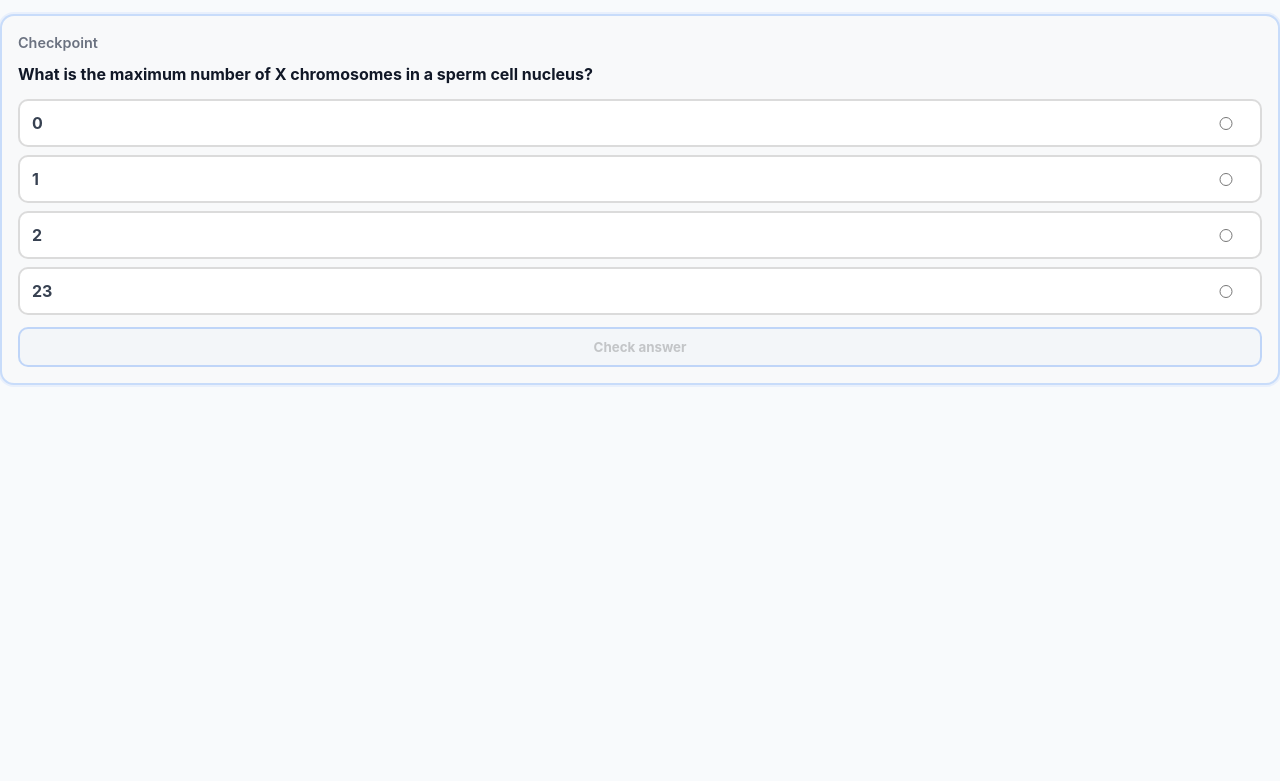
Test: LessonCheckpoint MCQ feedback › shows marks and feedback after check for entitled students
This screenshot has width=1280, height=781.
Click the button "1". click: click(35, 179)
box: [18,155,1262,203]
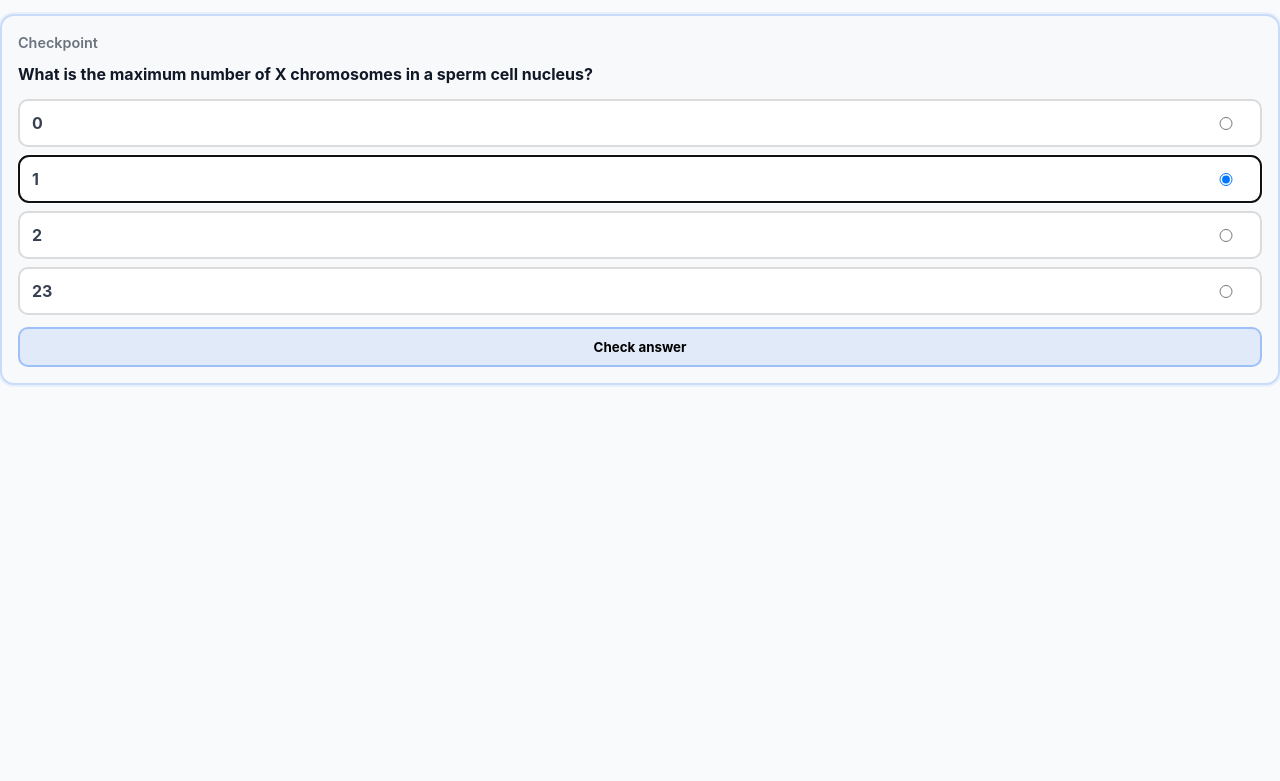
Click the button "Check answer". click: click(640, 347)
box: [18,327,1262,367]
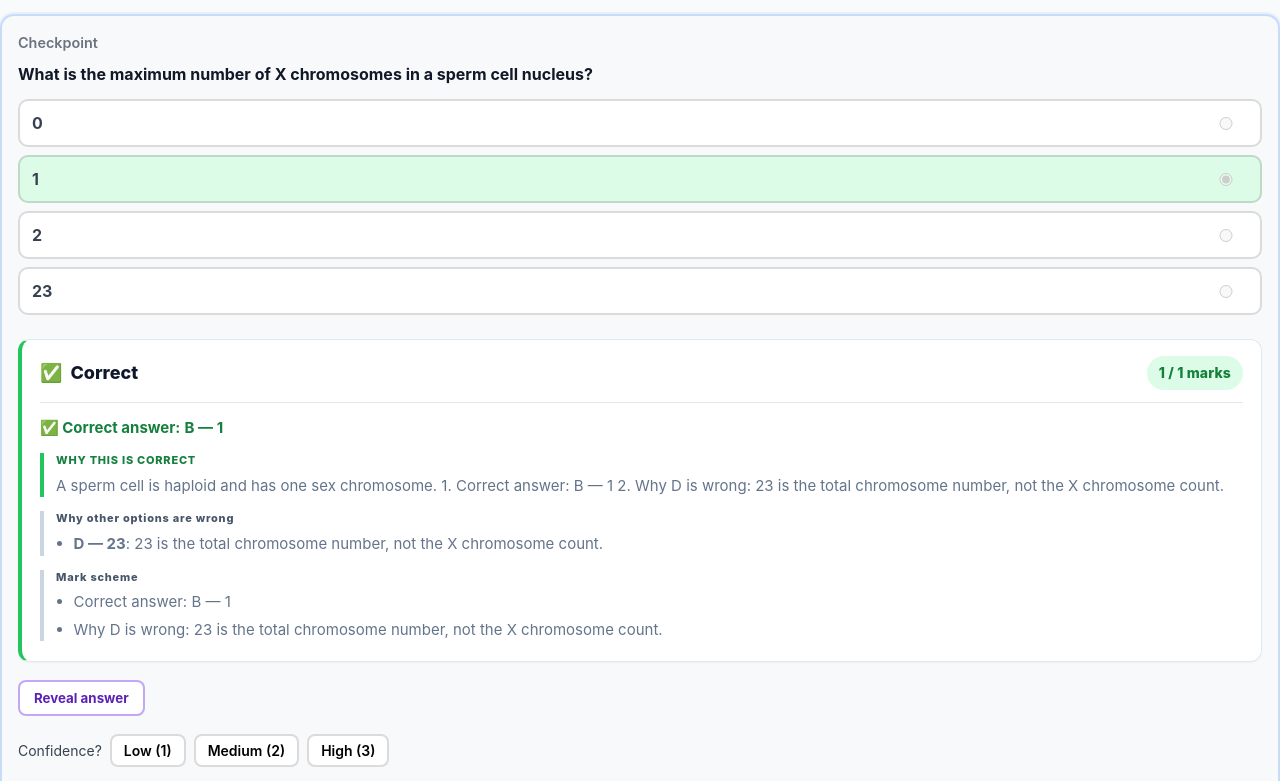
Now the text with test id "answer-feedback-score-badge" reads "1 / 1 marks", box [1147,356,1243,390]
Now the text "haploid" is shown, box [56,476,1224,495]
